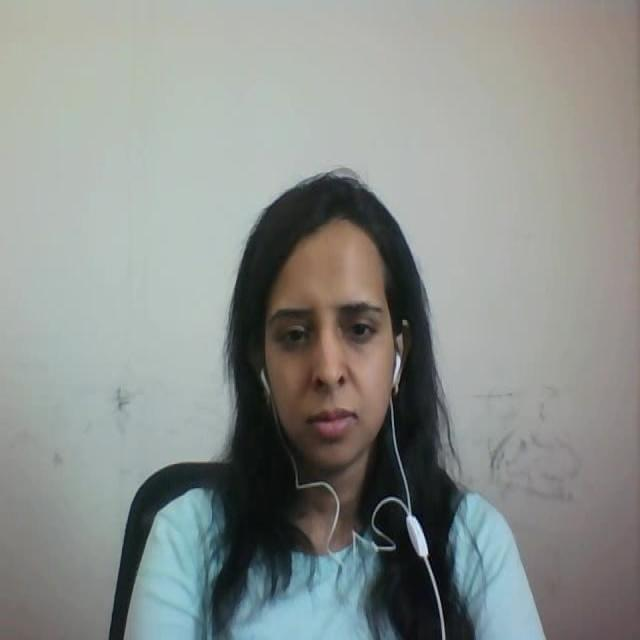Engaged: (208, 130, 450, 468)
